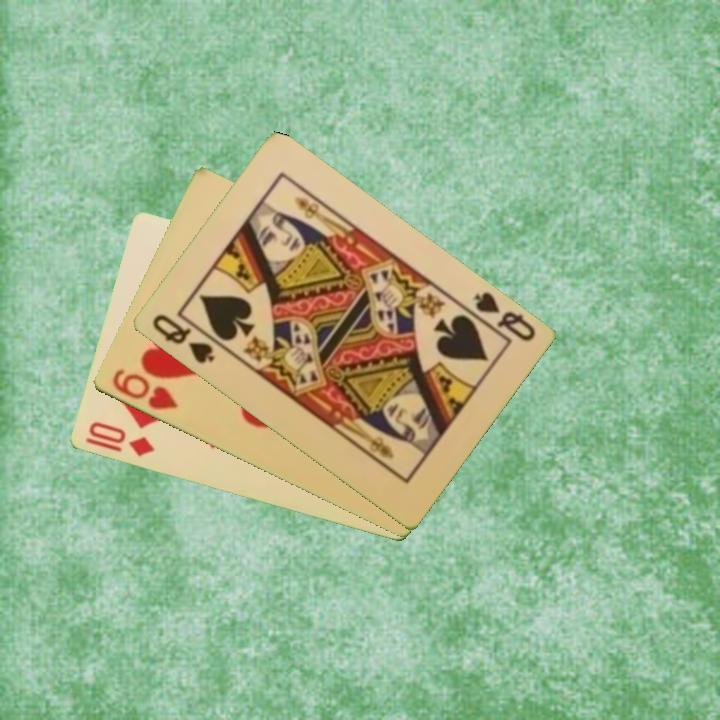10d: (81, 418, 157, 460)
6h: (108, 365, 180, 413)
Qs: (148, 310, 217, 367), (469, 288, 538, 345)
